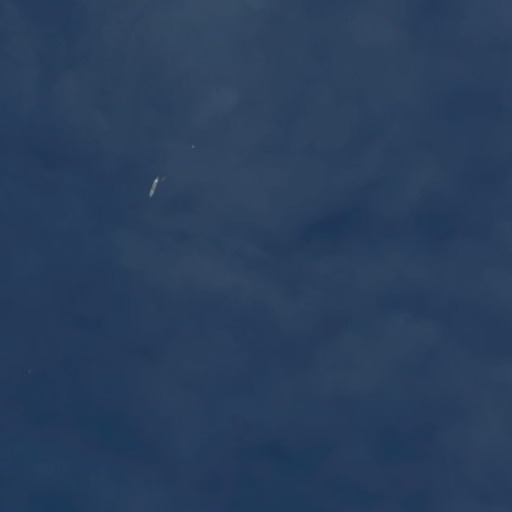ship: (144, 173, 163, 200)
